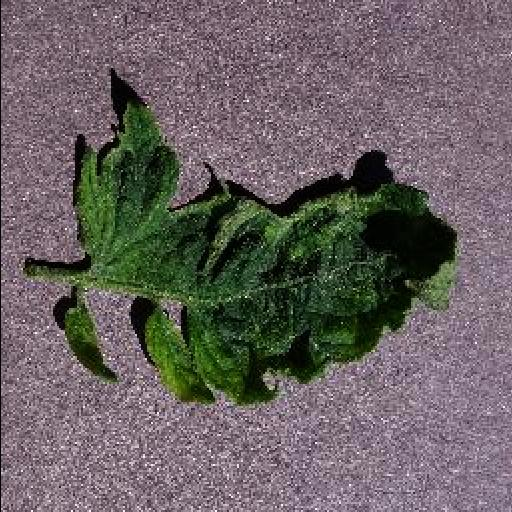disease_tomato: (73, 92, 459, 406)
